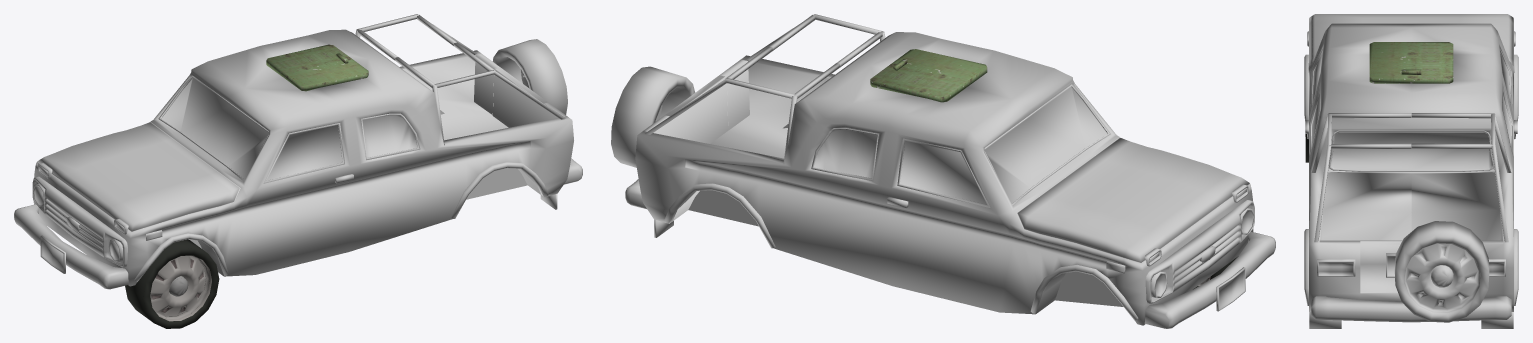
Rendered from Niva.fbx.
The picture shows the model from 3 angles, left to right: view 1: azimuth 30°, elevation 25°; view 2: azimuth 150°, elevation 25°; view 3: azimuth 270°, elevation 25°; orthographic projection. The views are drawn at different scales.
Parts seen in each view (by area): view 1: нИВА, КОЛЕСО, ЛЮК; view 2: нИВА, ЛЮК; view 3: нИВА, ЛЮК.
Boxes of the visible parts, x1,y1,x2,y2 form: нИВА: [14, 14, 582, 289]; КОЛЕСО: [125, 239, 219, 328]; ЛЮК: [266, 44, 368, 91]; нИВА: [611, 14, 1275, 328]; ЛЮК: [870, 49, 987, 102]; нИВА: [1304, 14, 1518, 328]; ЛЮК: [1369, 42, 1453, 83].
Bounding box in the file's own units: 327 × 113 × 111.
